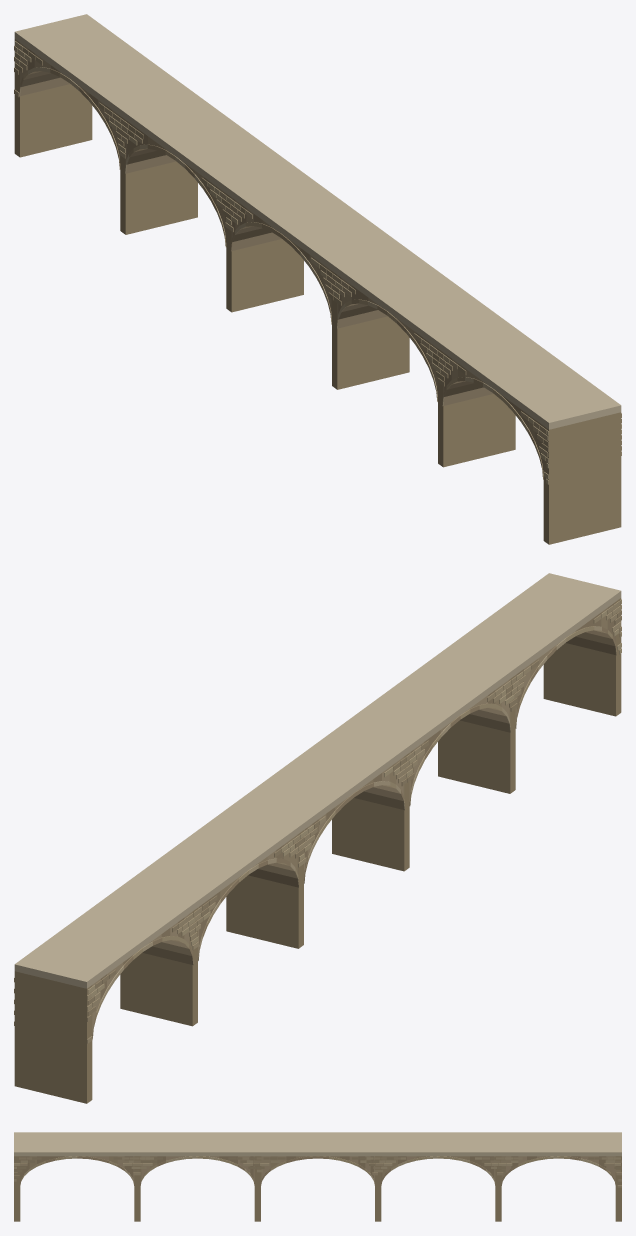
The model's file is bridge-stone-64.glb.
The picture shows the model from 3 angles, top to bottom: view 1: azimuth 30°, elevation 25°; view 2: azimuth 150°, elevation 25°; view 3: azimuth 270°, elevation 25°; orthographic projection. The views are drawn at different scales.
Visible parts, largest first — view 1: Deck | pale paving, Pier 06 | bank foundation, Pier 01 | bank foundation, Pier 04 | bank foundation, Pier 03 | bank foundation, Pier 02 | bank foundation, Pier 05 | bank foundation; view 2: Deck | pale paving, Pier 01 | bank foundation, Pier 04 | bank foundation, Pier 05 | bank foundation, Pier 06 | bank foundation, Pier 03 | bank foundation, Pier 02 | bank foundation; view 3: Deck | pale paving, Pier 02 | bank foundation, Pier 04 | bank foundation, Pier 03 | bank foundation, Pier 05 | bank foundation, Pier 06 | bank foundation, Pier 01 | bank foundation.
Boxes of the visible parts, left/top/right/bottom form: Deck | pale paving: left=14, top=14, right=621, bottom=429; Pier 06 | bank foundation: left=543, top=412, right=621, bottom=544; Pier 01 | bank foundation: left=14, top=39, right=92, bottom=157; Pier 04 | bank foundation: left=332, top=271, right=409, bottom=389; Pier 03 | bank foundation: left=226, top=194, right=303, bottom=312; Pier 02 | bank foundation: left=120, top=116, right=197, bottom=234; Pier 05 | bank foundation: left=438, top=349, right=515, bottom=467; Deck | pale paving: left=14, top=573, right=621, bottom=988; Pier 01 | bank foundation: left=14, top=971, right=92, bottom=1103; Pier 04 | bank foundation: left=332, top=753, right=409, bottom=871; Pier 05 | bank foundation: left=438, top=675, right=515, bottom=793; Pier 06 | bank foundation: left=543, top=598, right=621, bottom=716; Pier 03 | bank foundation: left=226, top=830, right=303, bottom=948; Pier 02 | bank foundation: left=120, top=908, right=197, bottom=1026; Deck | pale paving: left=14, top=1132, right=621, bottom=1156; Pier 02 | bank foundation: left=495, top=1156, right=501, bottom=1221; Pier 04 | bank foundation: left=254, top=1156, right=260, bottom=1221; Pier 03 | bank foundation: left=375, top=1156, right=381, bottom=1221; Pier 05 | bank foundation: left=134, top=1156, right=140, bottom=1221; Pier 06 | bank foundation: left=14, top=1156, right=20, bottom=1221; Pier 01 | bank foundation: left=615, top=1156, right=621, bottom=1221.
Bounding box in the file's own units: 5.1 × 8.05 × 64.
